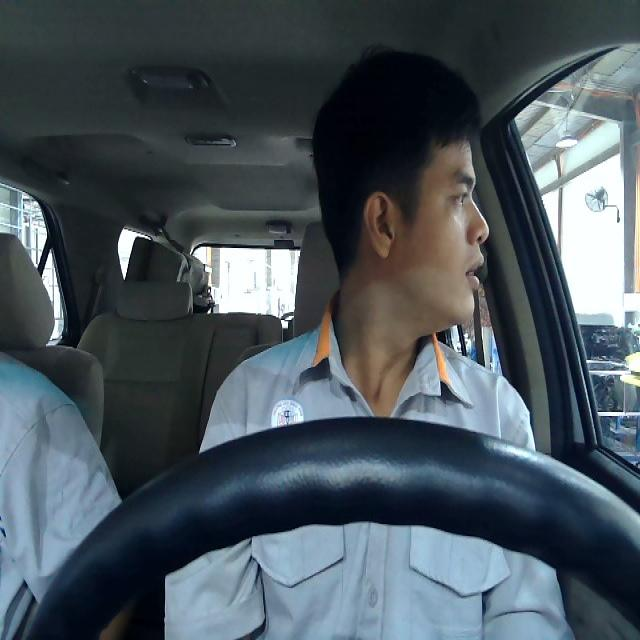yarning: (356, 133, 490, 331)
